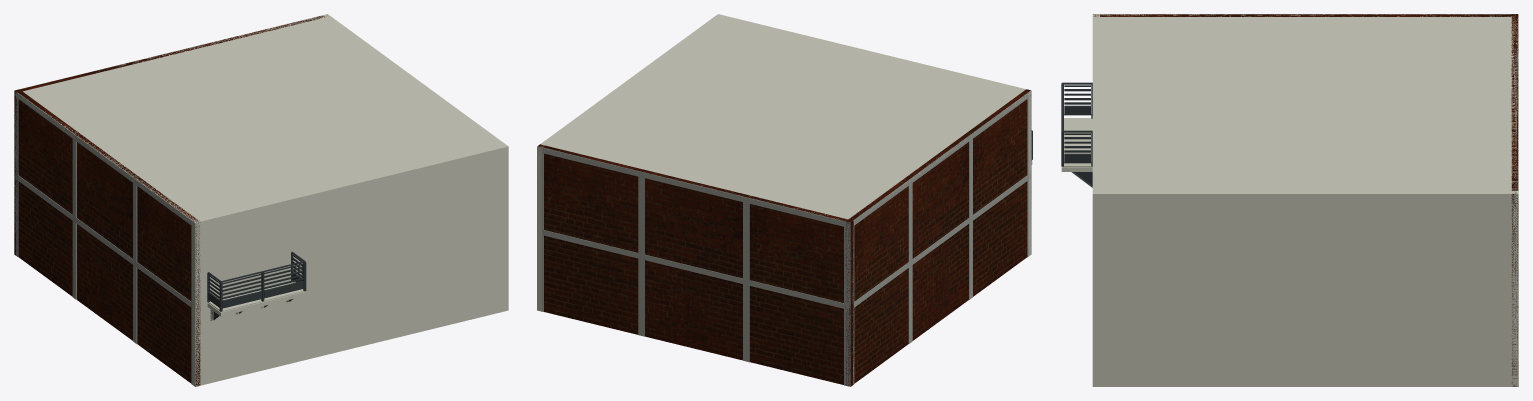
Rendered from building.glb.
3 renders of one model, left to right at view 1: azimuth 30°, elevation 25°; view 2: azimuth 150°, elevation 25°; view 3: azimuth 270°, elevation 25°, orthographic. The views are drawn at different scales.
Parts seen in each view (by area): view 1: roof/house:0/roof_slab#0001, house:0/edge0/z0/house:0/edge0/z0/wall_0_0, house:0/edge3/z0/house:0/edge3/z0/wall_0_0, house:0/edge2/z0/house:0/edge2/z0/wall_0_0, house:0/edge3/z0/house:0/edge3/z0/beam_0_0, house:0/edge3/z0/house:0/edge3/z0/beam_1_0, house:0/edge1/z0/house:0/edge1/z0/wall_0_0, balcony/sample/balcony_fascia#0001, balcony/sample/balcony_platform#0001; view 2: roof/house:0/roof_slab#0001, house:0/edge2/z0/house:0/edge2/z0/wall_0_0, house:0/edge3/z0/house:0/edge3/z0/wall_0_0, house:0/edge1/z0/house:0/edge1/z0/wall_0_0, house:0/edge2/z0/house:0/edge2/z0/beam_1_0, house:0/edge2/z0/house:0/edge2/z0/beam_0_0, house:0/edge0/z0/house:0/edge0/z0/wall_0_0, house:0/edge3/z0/house:0/edge3/z0/beam_0_0, house:0/edge3/z0/house:0/edge3/z0/beam_1_0, house:0/edge2/z0/house:0/edge2/z0/column_2_0, house:0/edge2/z0/house:0/edge2/z0/column_2_1, house:0/edge2/z0/house:0/edge2/z0/column_3_0 (+3 smaller); view 3: house:0/edge1/z0/house:0/edge1/z0/wall_0_0, roof/house:0/roof_slab#0001, house:0/edge0/z0/house:0/edge0/z0/wall_0_0, house:0/edge2/z0/house:0/edge2/z0/wall_0_0, house:0/edge3/z0/house:0/edge3/z0/wall_0_0, balcony/sample/balcony_platform#0001.
Part boxes in pixels (box(x1,y1,x2,y2)): roof/house:0/roof_slab#0001: box(15, 14, 506, 225); house:0/edge0/z0/house:0/edge0/z0/wall_0_0: box(192, 144, 508, 386); house:0/edge3/z0/house:0/edge3/z0/wall_0_0: box(17, 89, 200, 386); house:0/edge2/z0/house:0/edge2/z0/wall_0_0: box(14, 15, 327, 255); house:0/edge3/z0/house:0/edge3/z0/beam_0_0: box(14, 173, 195, 309); house:0/edge3/z0/house:0/edge3/z0/beam_1_0: box(14, 92, 195, 227); house:0/edge1/z0/house:0/edge1/z0/wall_0_0: box(323, 14, 508, 311); balcony/sample/balcony_fascia#0001: box(207, 291, 305, 316); balcony/sample/balcony_platform#0001: box(208, 282, 304, 312); roof/house:0/roof_slab#0001: box(540, 14, 1031, 223); house:0/edge2/z0/house:0/edge2/z0/wall_0_0: box(538, 144, 853, 386); house:0/edge3/z0/house:0/edge3/z0/wall_0_0: box(845, 89, 1030, 385); house:0/edge1/z0/house:0/edge1/z0/wall_0_0: box(537, 15, 722, 311); house:0/edge2/z0/house:0/edge2/z0/beam_1_0: box(538, 147, 850, 228); house:0/edge2/z0/house:0/edge2/z0/beam_0_0: box(542, 230, 850, 309); house:0/edge0/z0/house:0/edge0/z0/wall_0_0: box(717, 14, 1031, 256); house:0/edge3/z0/house:0/edge3/z0/beam_0_0: box(850, 172, 1031, 309); house:0/edge3/z0/house:0/edge3/z0/beam_1_0: box(850, 90, 1031, 227); house:0/edge2/z0/house:0/edge2/z0/column_2_0: box(638, 176, 644, 254); house:0/edge2/z0/house:0/edge2/z0/column_2_1: box(638, 258, 644, 336); house:0/edge2/z0/house:0/edge2/z0/column_3_0: box(743, 202, 749, 280); house:0/edge1/z0/house:0/edge1/z0/wall_0_0: box(1092, 191, 1518, 386); roof/house:0/roof_slab#0001: box(1092, 14, 1518, 198); house:0/edge0/z0/house:0/edge0/z0/wall_0_0: box(1092, 14, 1099, 386); house:0/edge2/z0/house:0/edge2/z0/wall_0_0: box(1511, 14, 1518, 386); house:0/edge3/z0/house:0/edge3/z0/wall_0_0: box(1093, 14, 1517, 16); balcony/sample/balcony_platform#0001: box(1063, 118, 1092, 167).
Bounding box in the file's own units: 12 × 6 × 12.89.
Materials: 4 (1 with a texture image).
